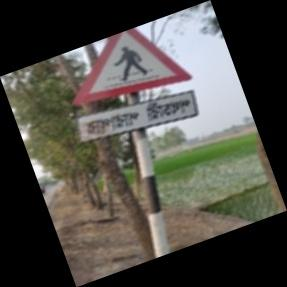Pedestrian-crossing: (72, 26, 197, 147)
